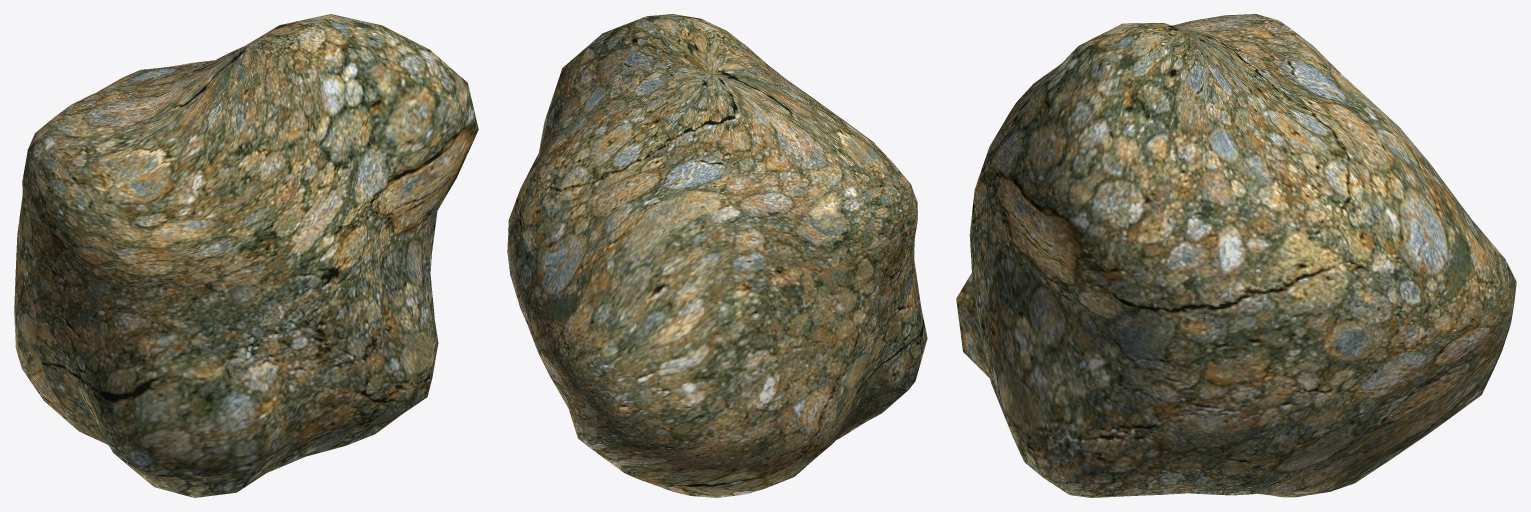
The model's file is Meteo_01.fbx.
The picture shows the model from 3 angles, left to right: view 1: azimuth 30°, elevation 25°; view 2: azimuth 150°, elevation 25°; view 3: azimuth 270°, elevation 25°; orthographic projection. The views are drawn at different scales.
Parts seen in each view (by area): view 1: Meteo_01; view 2: Meteo_01; view 3: Meteo_01.
Part boxes in pixels (x1,y1,x2,y2): Meteo_01: (14,14,478,497); Meteo_01: (507,14,927,497); Meteo_01: (956,14,1516,497).
Size of the model in its own units: 212 by 224 by 226.
